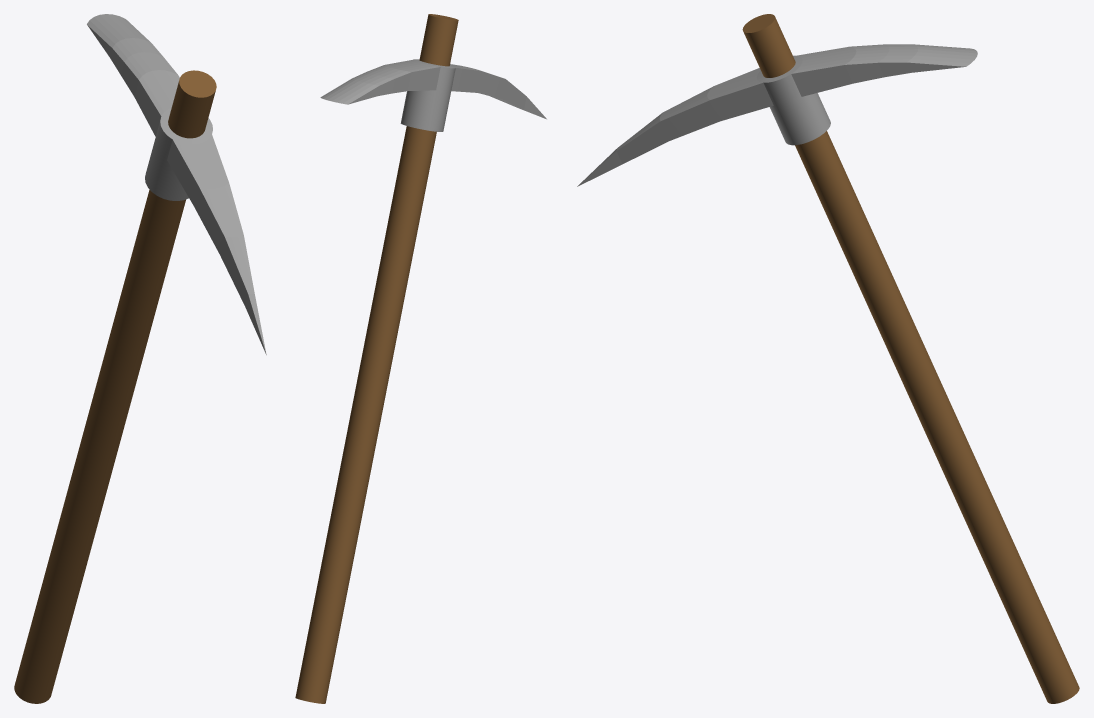
File: Pickaxe.fbx
The picture shows the model from 3 angles, left to right: view 1: azimuth 30°, elevation 25°; view 2: azimuth 150°, elevation 25°; view 3: azimuth 270°, elevation 25°; orthographic projection. The views are drawn at different scales.
Parts seen in each view (by area): view 1: Pickaxe; view 2: Pickaxe; view 3: Pickaxe.
Boxes of the visible parts, x1,y1,x2,y2 form: Pickaxe: (14, 14, 266, 703); Pickaxe: (295, 14, 546, 703); Pickaxe: (577, 14, 1079, 703).
Size of the model in its own units: 16.63 by 167 by 111.
